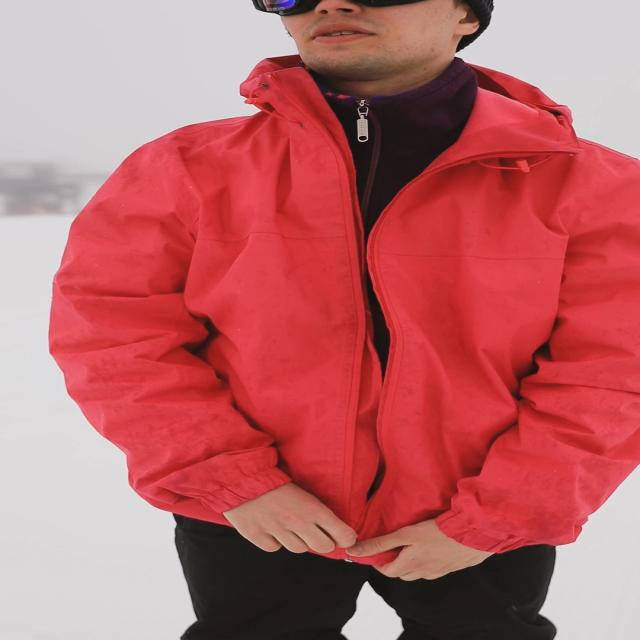Jacket_Wearer: (39, 71, 640, 564)
Person: (19, 5, 640, 639)
